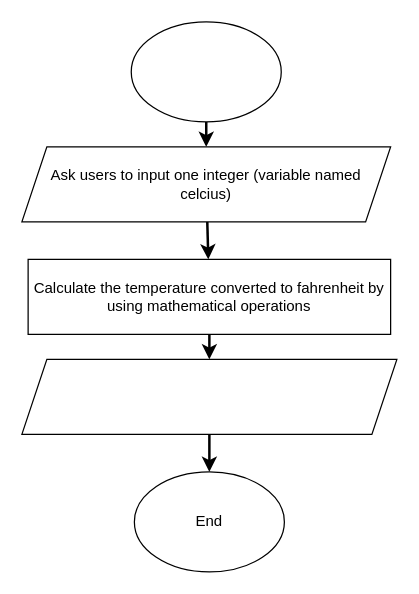
This 419x594 diagram has some shape labels left out. The centre of each missing label's shape, as x and y in pixels:
"Display the temperature in fahrenheit after the conversion" goes at (x=209, y=396).
"Start" goes at (x=205, y=71).
